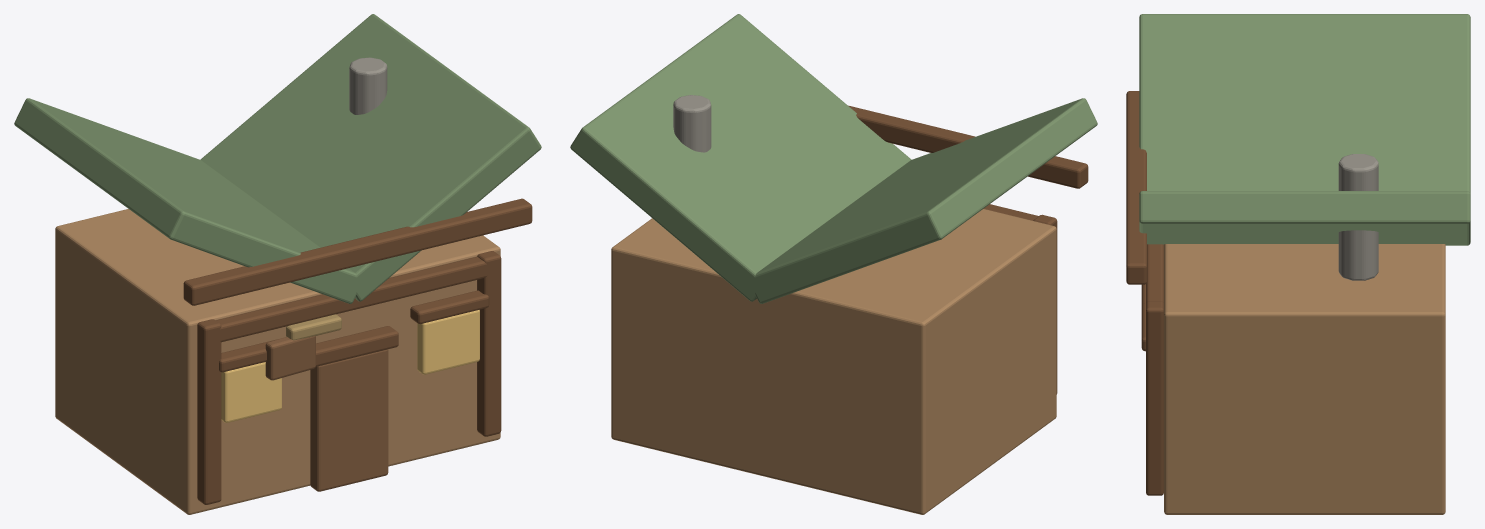
File: woodland-lodge-01--moss-roof.glb
3 renders of one model, left to right at view 1: azimuth 30°, elevation 25°; view 2: azimuth 150°, elevation 25°; view 3: azimuth 270°, elevation 25°, orthographic. The views are drawn at different scales.
Visible parts, largest first — view 1: woodland-lodge-01--moss-roof; view 2: woodland-lodge-01--moss-roof; view 3: woodland-lodge-01--moss-roof.
Boxes of the visible parts, box(x1,y1,x2,y2) form: woodland-lodge-01--moss-roof: box(14, 14, 541, 514); woodland-lodge-01--moss-roof: box(570, 14, 1097, 514); woodland-lodge-01--moss-roof: box(1126, 14, 1470, 514).
Bounding box in the file's own units: 0.5455 × 0.445 × 0.4155.
